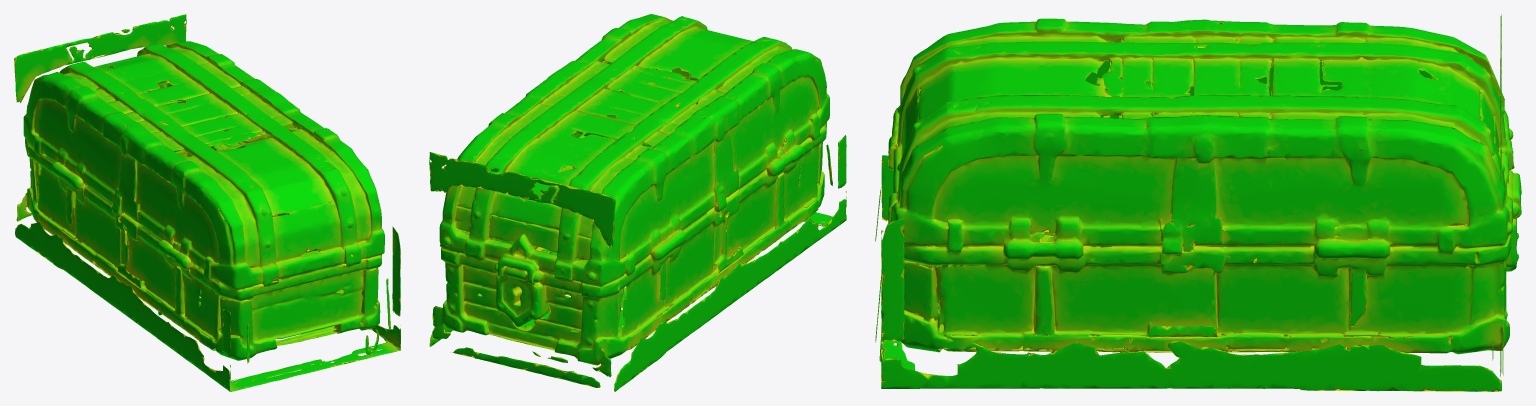
Rendered from lootchest.fbx.
3 views of the same model, side by side, from view 1: azimuth 30°, elevation 25°; view 2: azimuth 150°, elevation 25°; view 3: azimuth 270°, elevation 25° (orthographic). The views are drawn at different scales.
Parts seen in each view (by area): view 1: geometry_0; view 2: geometry_0; view 3: geometry_0.
Boxes of the visible parts, bbox=[...] form: geometry_0: bbox=[14, 14, 400, 391]; geometry_0: bbox=[429, 14, 846, 391]; geometry_0: bbox=[875, 14, 1521, 391].
Size of the model in its own units: 185 by 180 by 402.
